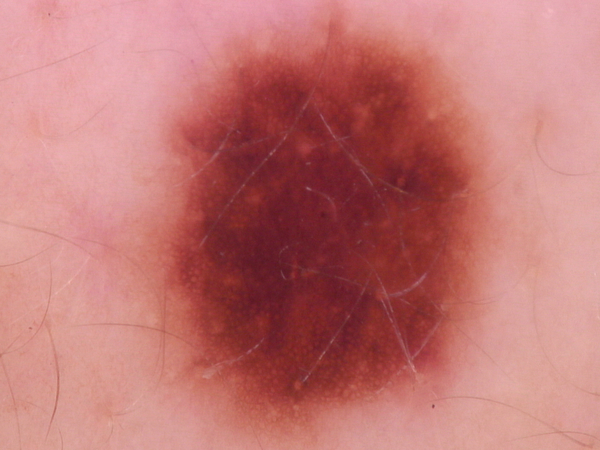Detected Lesion: (151, 21, 493, 432)
